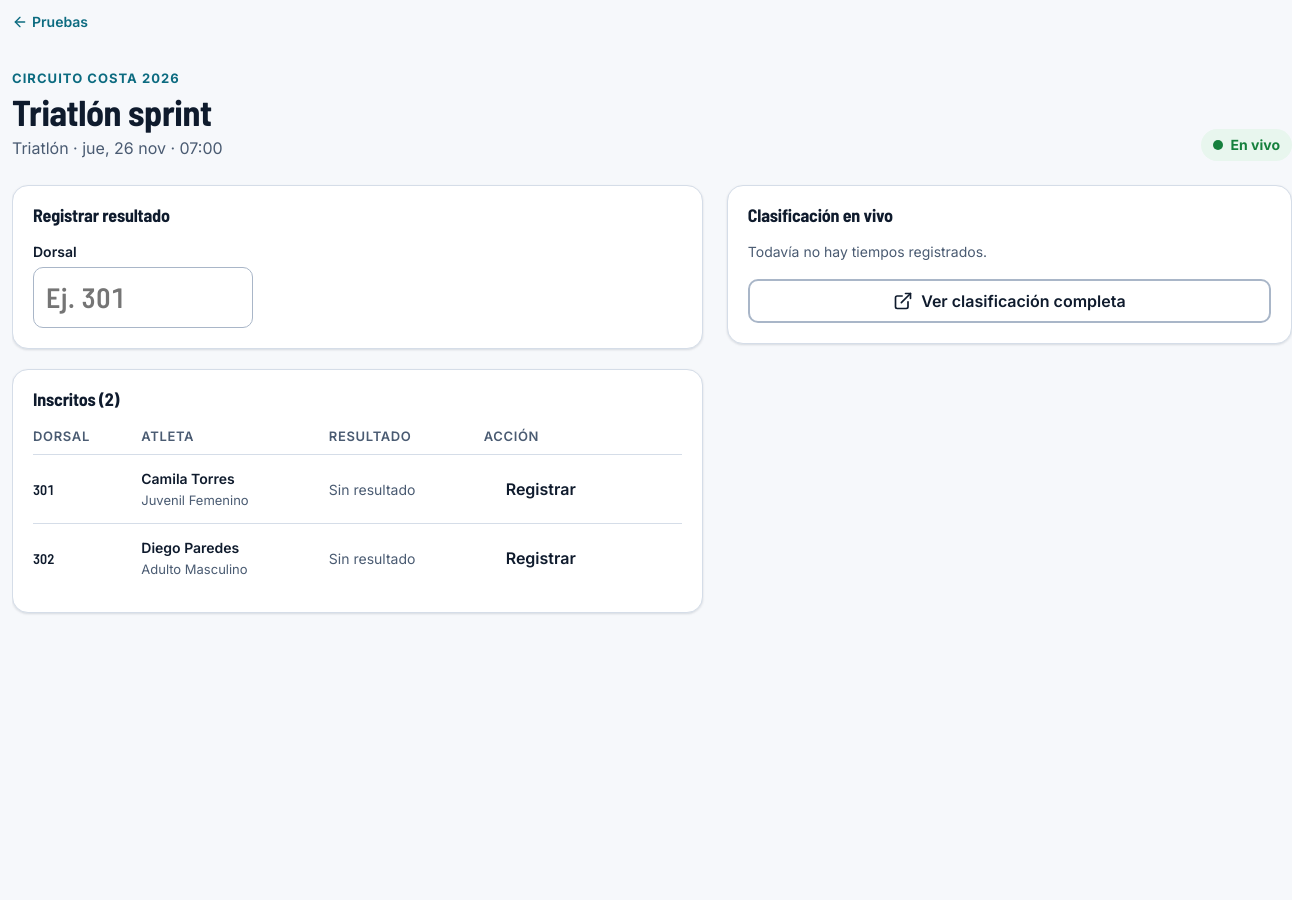
Test: RegistroTiemposPage › avisa si ningún inscrito tiene ese dorsal
Check: the heading "Triatlón sprint" is shown, box [12,92,223,132]
Type "999" into the field labelled "Dorsal" at (143, 298), box [33,267,253,328]
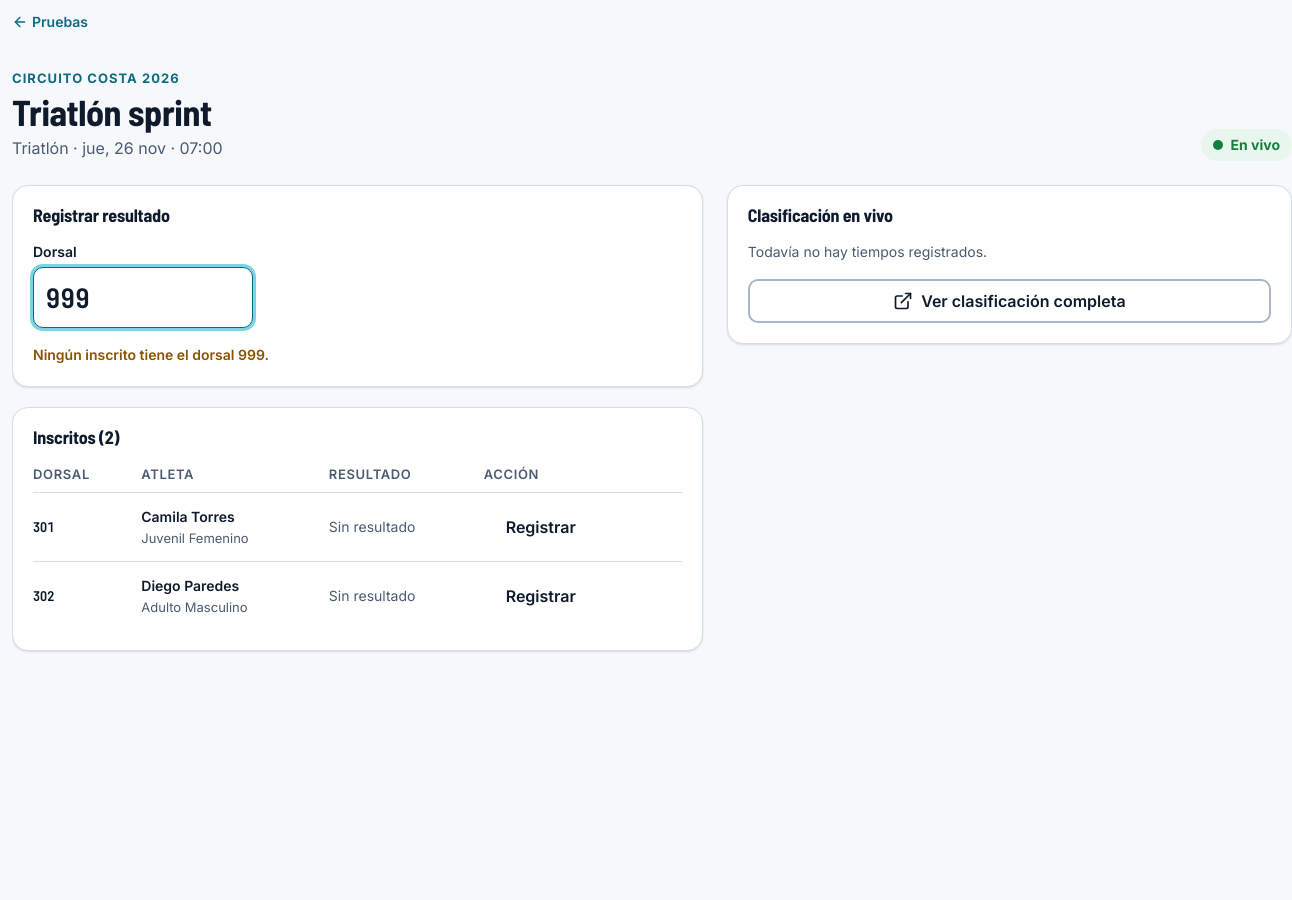
Check: the text "Ningún inscrito tiene el dorsal 999." is shown, box [33,346,269,363]
